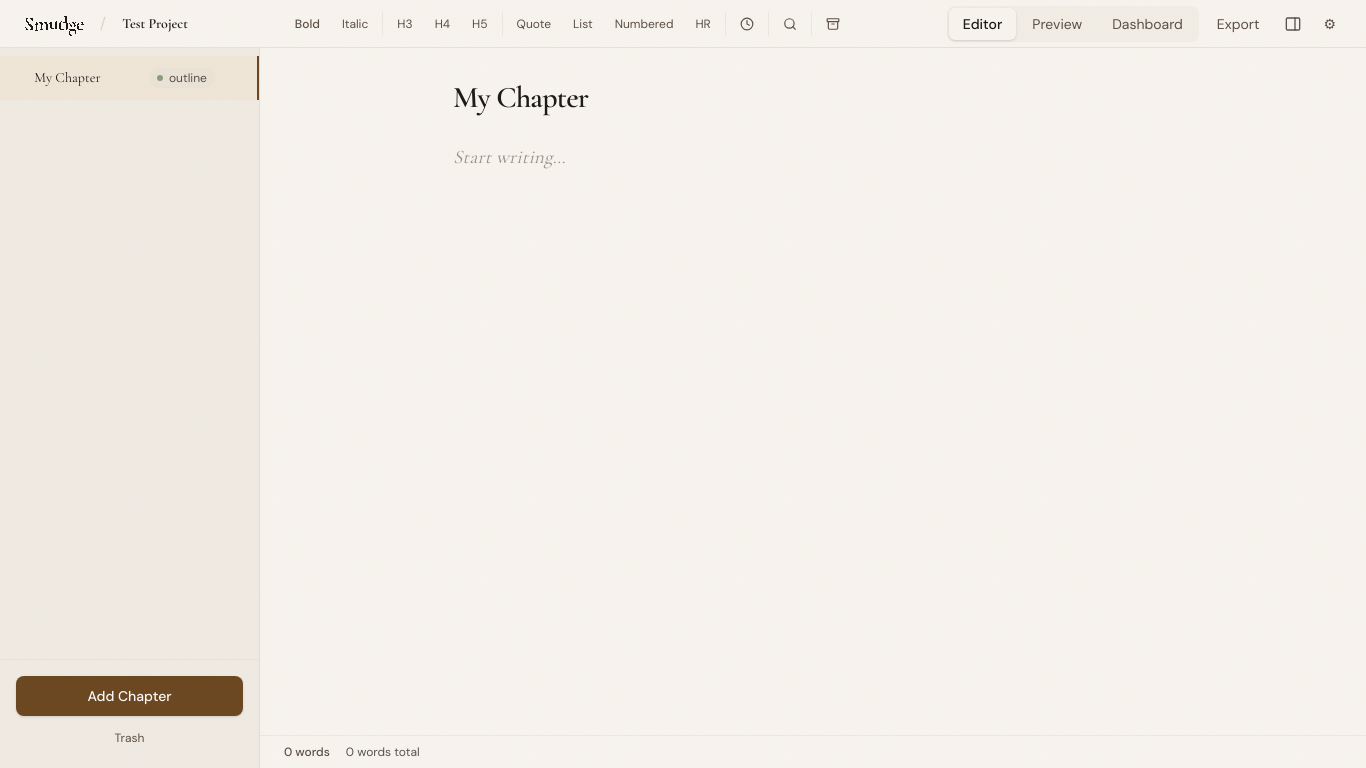
Test: Project title editing › cancels project title editing on Escape without saving
This screenshot has width=1366, height=768.
Double-click the heading "Test Project": coordinates (155, 24) 122,14 -> 188,34
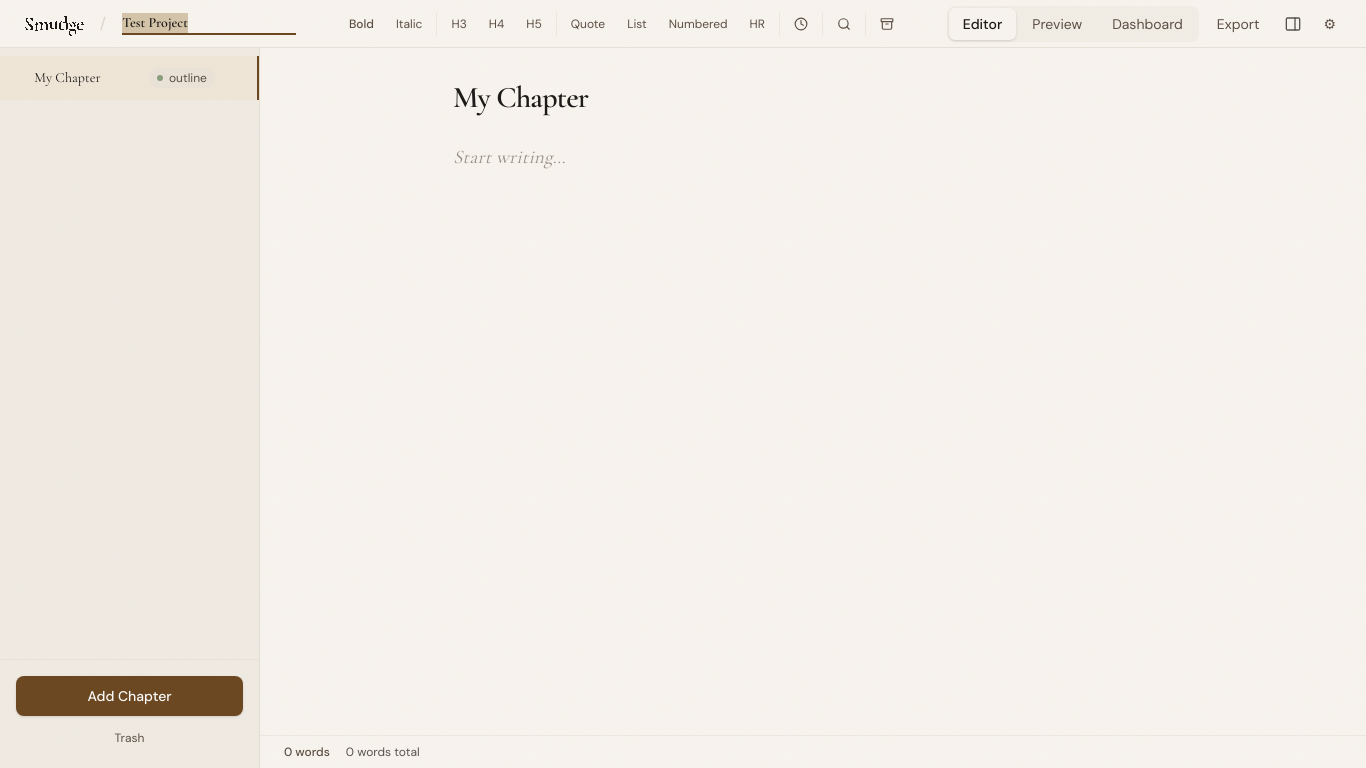
Expected: the field named "Project title" is shown
Replace the text in the field named "Project title" with "Something else": coordinates (209, 24) 122,12 -> 296,34
Then press Escape
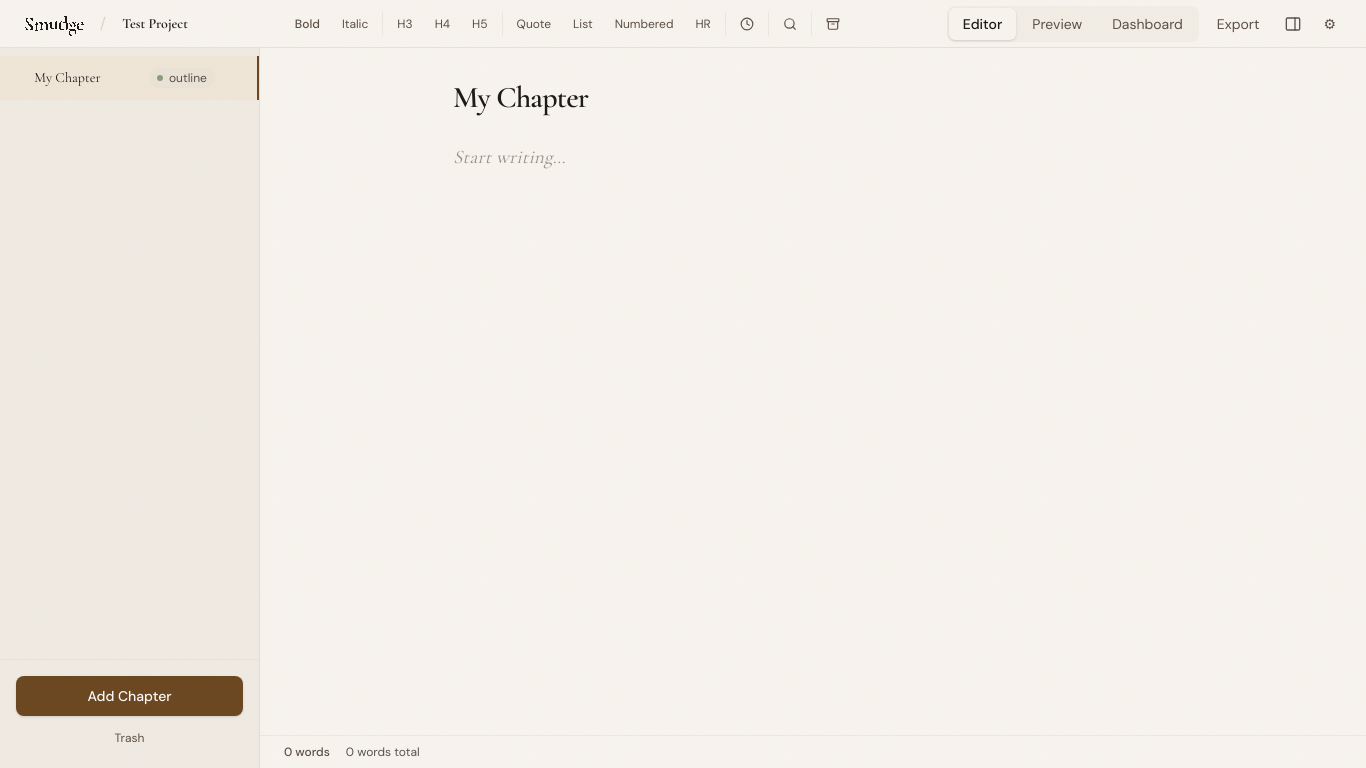
Expected: the heading "Test Project" is shown, 122,14 -> 188,34
